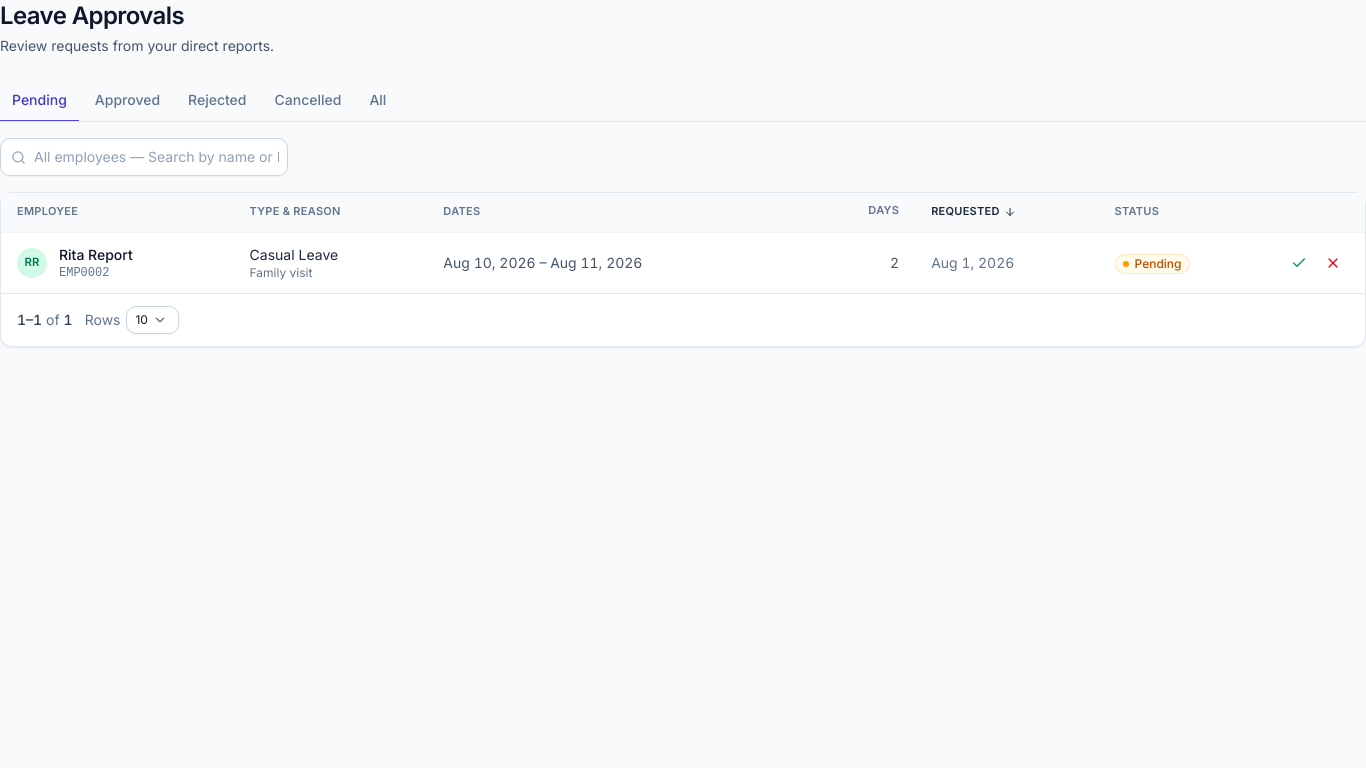
Scenario: LeaveApprovalsPage › approves a request with a note, refetches the list and toasts
The image size is (1366, 768).
Click the button named "approve request from rita". click: click(1299, 262)
box: [1283, 246, 1315, 278]
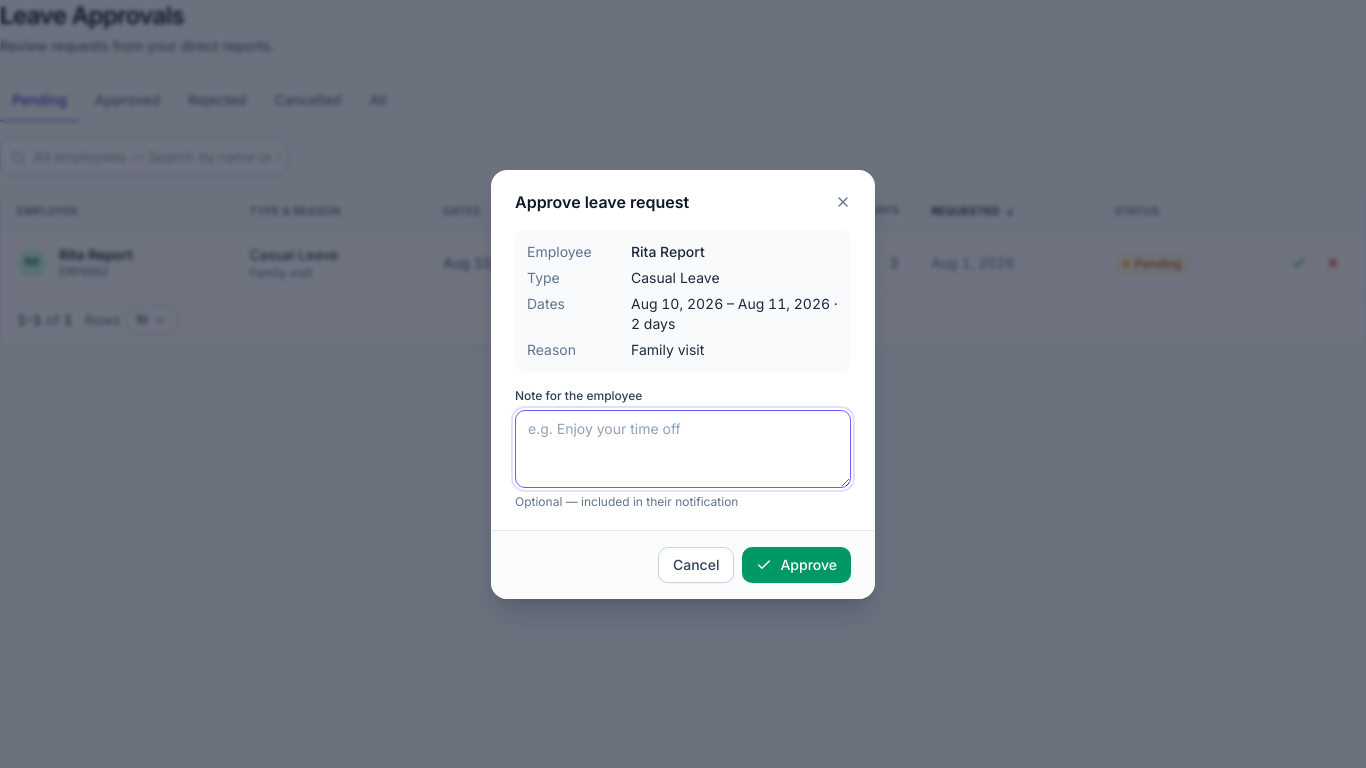
Expected: the text "Family visit" is shown, [631, 340, 704, 358]
Type "Enjoy" into the text box labelled "Note for the employee". click: (683, 448)
box: [515, 410, 851, 488]
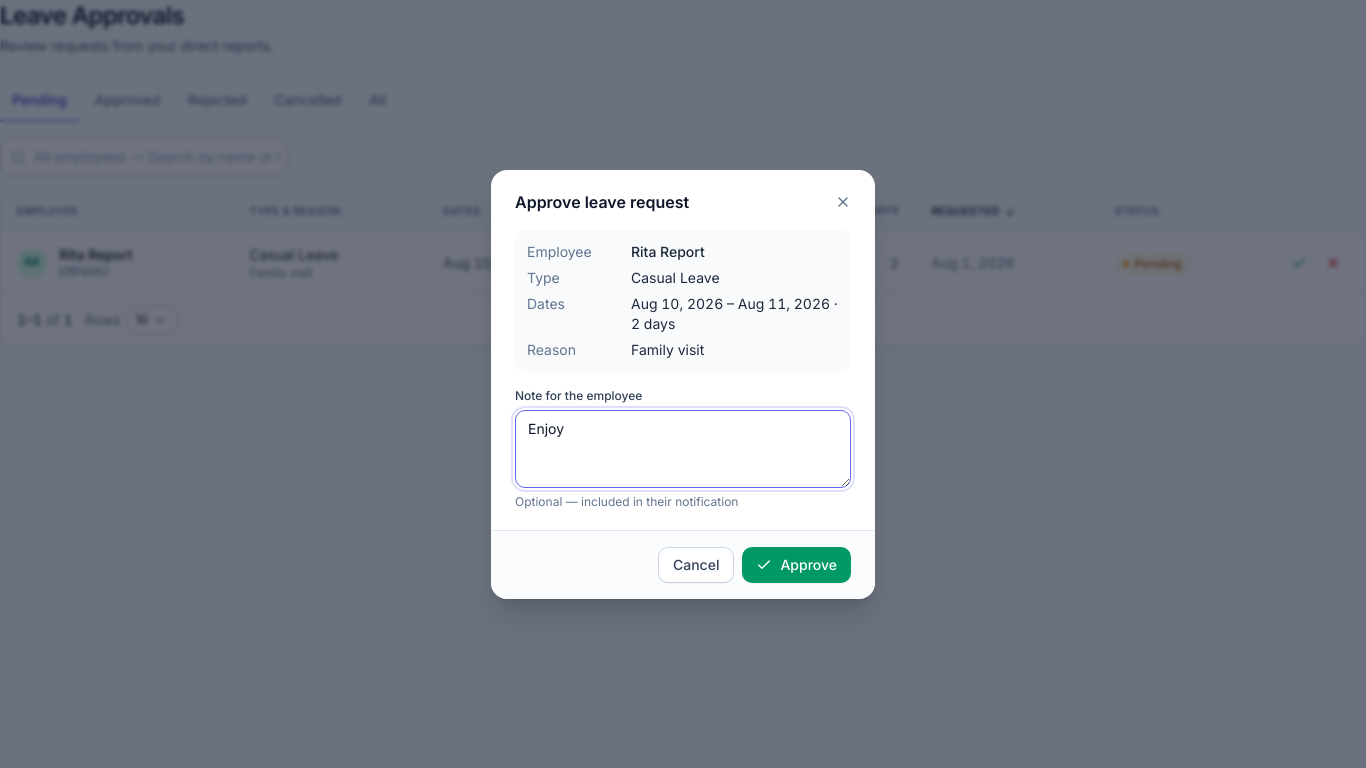
Click the button "Approve". click: click(797, 564)
box: [742, 546, 851, 582]
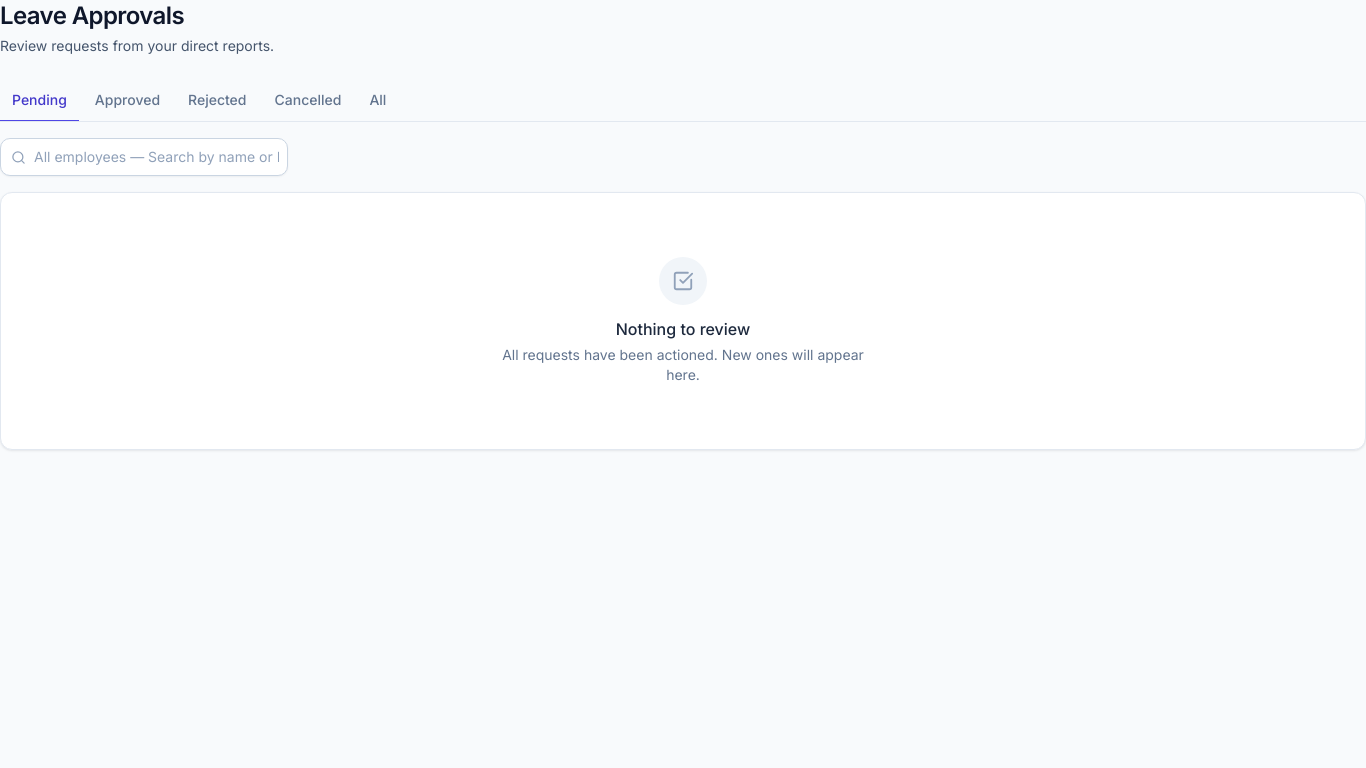
Expected: the dialog is gone
Expected: the text "Nothing to review" is shown, [616, 319, 750, 339]
